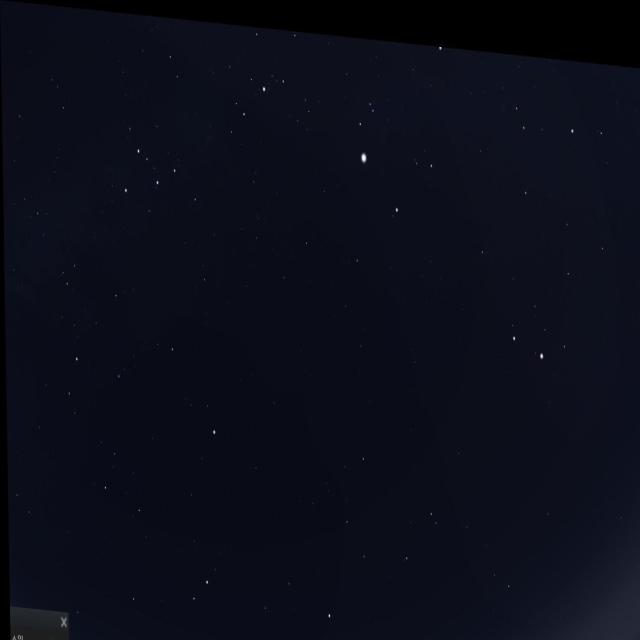cassiopeia: (128, 130, 194, 224)
